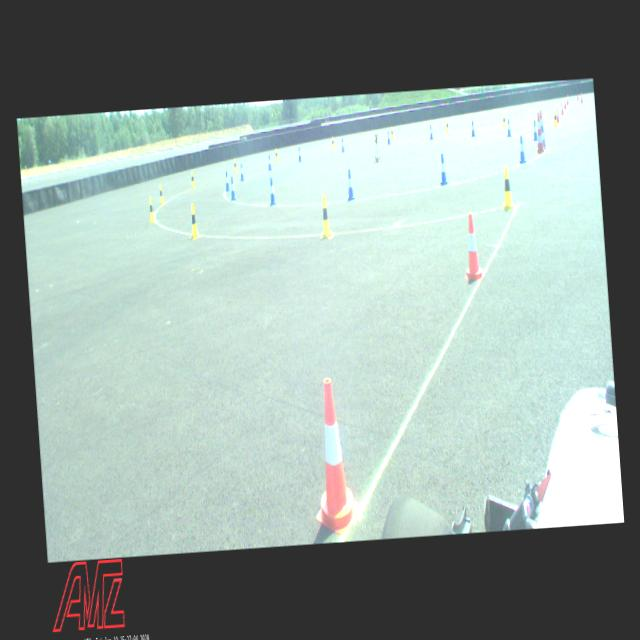blue_cone: (438, 152, 448, 185), (345, 168, 355, 201), (517, 134, 526, 162), (268, 177, 276, 206), (228, 176, 236, 201), (224, 170, 230, 191), (532, 120, 538, 140), (505, 118, 511, 136), (540, 125, 544, 148), (470, 120, 475, 138), (239, 162, 244, 180), (267, 153, 272, 170), (297, 146, 302, 162), (428, 124, 433, 140), (340, 137, 345, 153), (386, 129, 391, 145)
large_orange_cone: (534, 112, 544, 154), (538, 109, 546, 146)
orange_cone: (306, 376, 361, 538), (461, 212, 484, 281), (554, 106, 560, 122), (560, 100, 564, 114), (566, 94, 568, 105), (564, 98, 566, 109), (580, 91, 582, 102)
yellow_cone: (500, 164, 514, 210), (318, 194, 332, 238), (189, 202, 199, 238), (148, 196, 156, 223), (158, 183, 164, 206), (190, 170, 196, 188), (552, 108, 558, 126), (232, 157, 238, 173), (501, 112, 506, 128), (389, 125, 394, 139), (444, 118, 448, 132), (274, 147, 278, 161), (330, 136, 334, 148)
